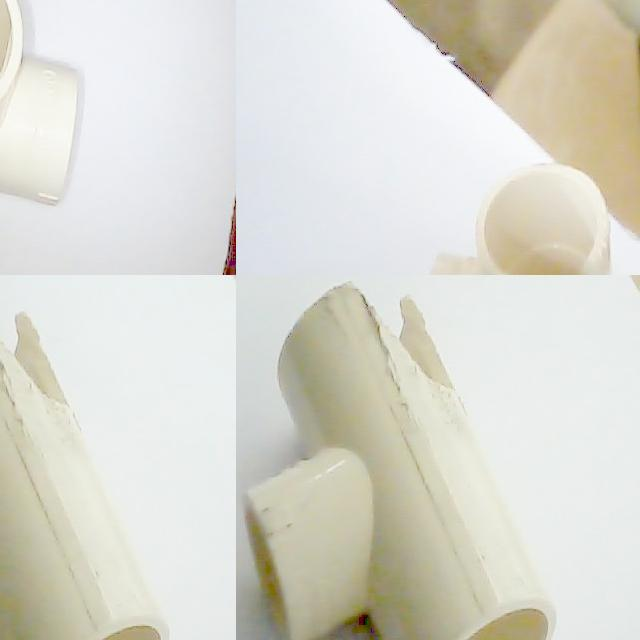Defective: (350, 276, 467, 406), (0, 298, 72, 407)
T Joint: (242, 284, 558, 640), (0, 313, 170, 640), (429, 164, 615, 275)
